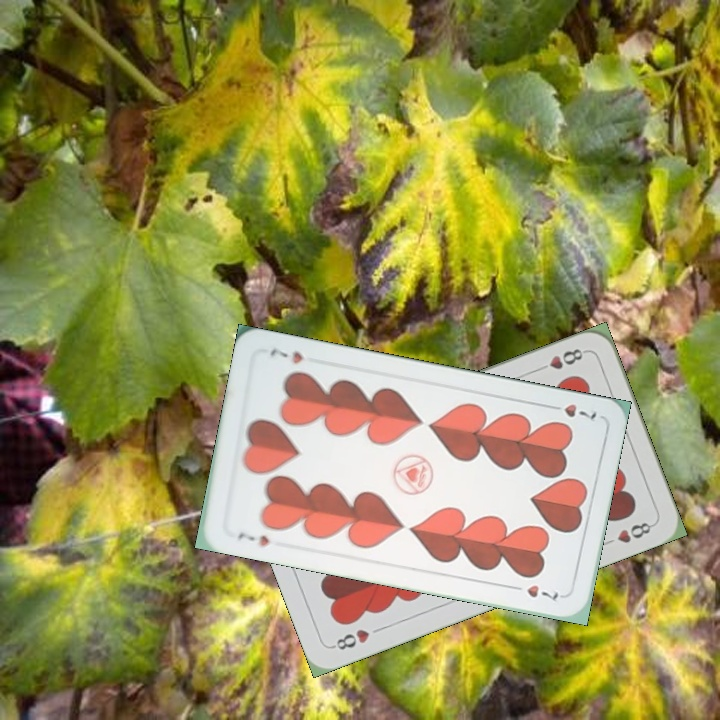H7: (543, 400, 599, 423), (234, 528, 272, 549)
H8: (533, 344, 590, 374), (328, 625, 372, 653)
